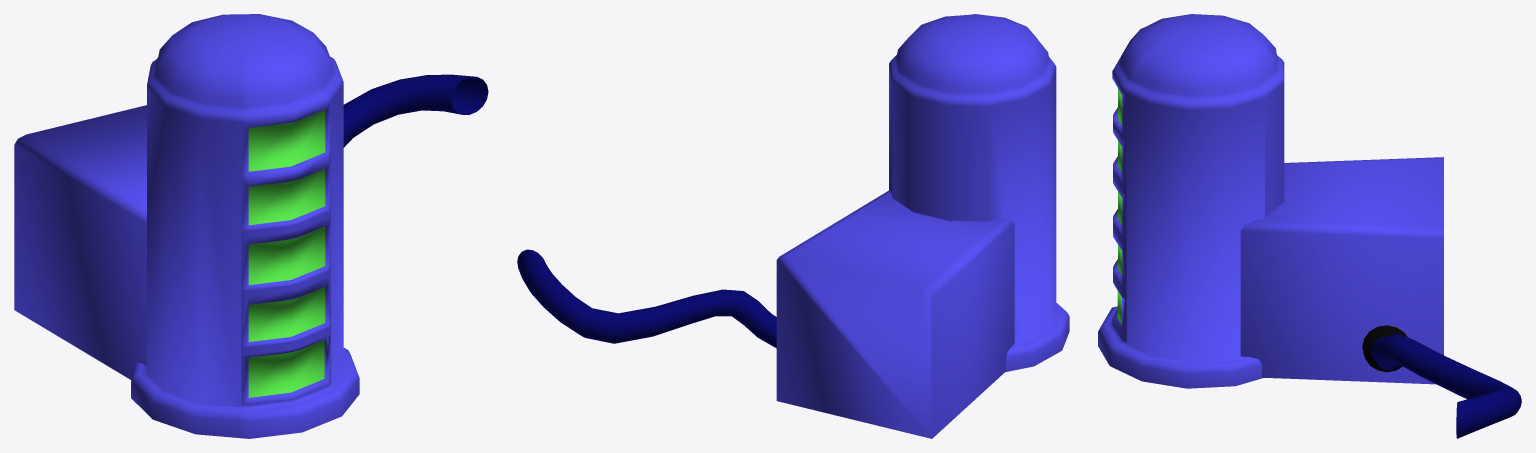
The model's file is Energy Bank with Animation NEW.fbx.
The picture shows the model from 3 angles, left to right: view 1: azimuth 30°, elevation 25°; view 2: azimuth 150°, elevation 25°; view 3: azimuth 270°, elevation 25°; orthographic projection. The views are drawn at different scales.
Visible parts, largest first — view 1: Circle; view 2: Circle; view 3: Circle.
Boxes of the visible parts, box(x1,y1,x2,y2) form: Circle: box(14, 14, 488, 438); Circle: box(517, 14, 1069, 438); Circle: box(1098, 14, 1521, 438).
Bounding box in the file's own units: 462 × 325 × 394.
